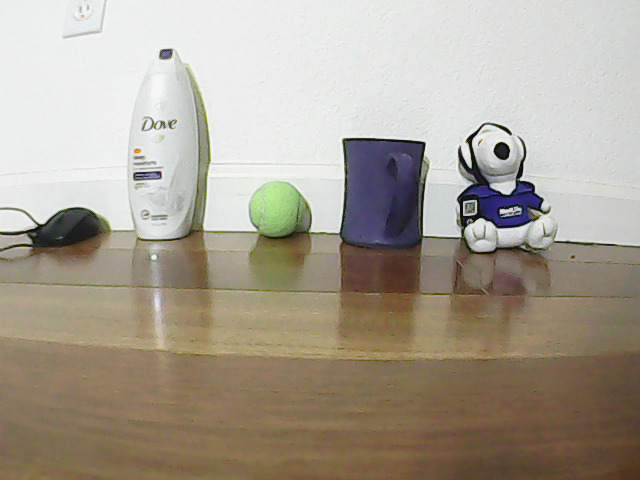ball: (249, 173, 320, 240)
mouse: (21, 194, 94, 246)
mug: (326, 127, 432, 250)
snoopy: (450, 119, 571, 250)
soap: (124, 48, 200, 241)
